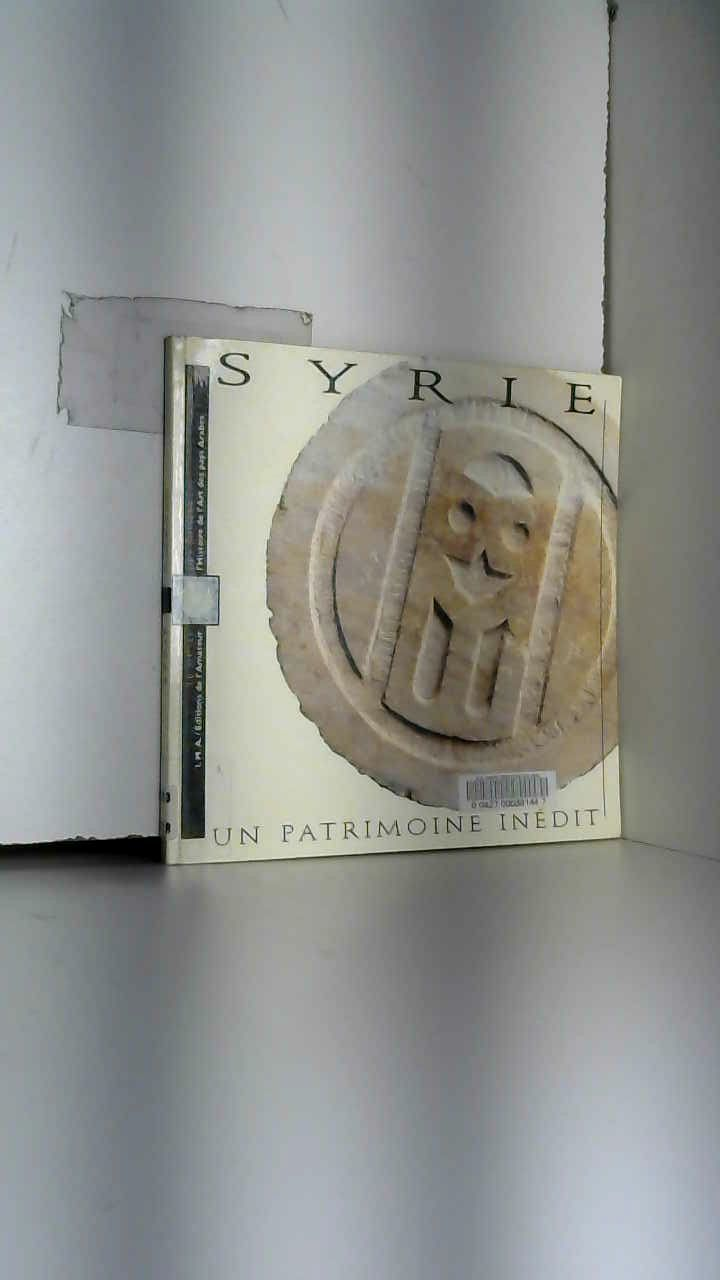book: (119, 297, 661, 900)
